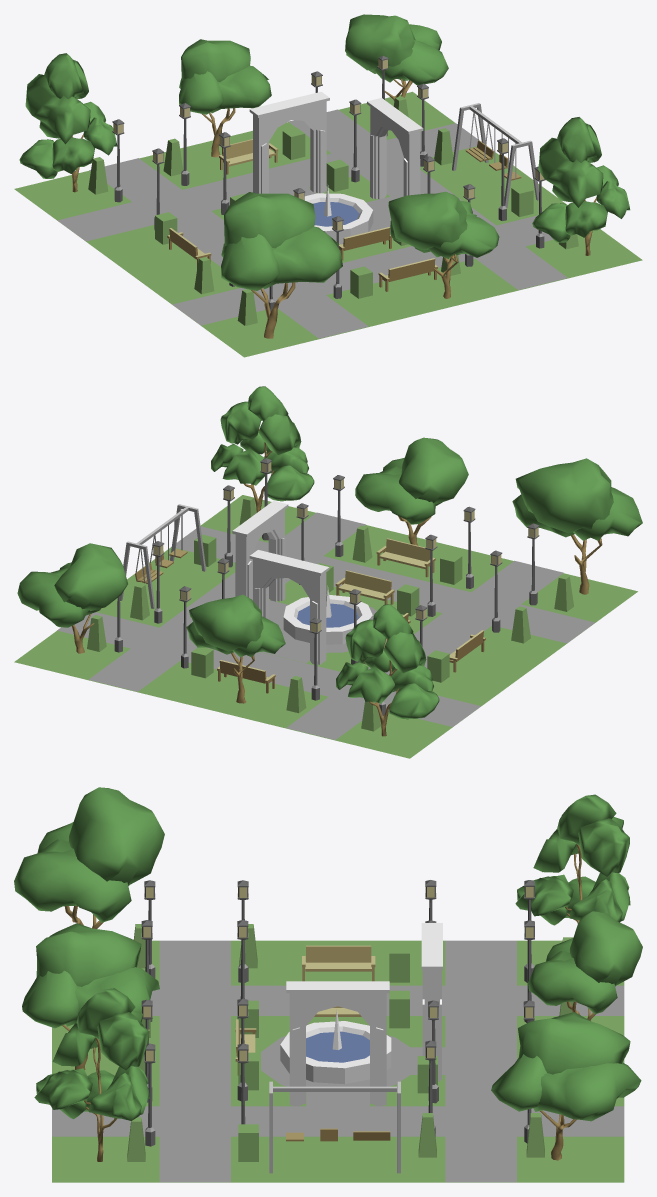
File: park-transformed.glb
The picture shows the model from 3 angles, top to bottom: view 1: azimuth 30°, elevation 25°; view 2: azimuth 150°, elevation 25°; view 3: azimuth 270°, elevation 25°; orthographic projection. The views are drawn at different scales.
Visible parts, largest first — view 1: park.007; view 2: park.007; view 3: park.007.
Part boxes in pixels (x1,y1,x2,y2): park.007: (14, 14, 642, 357); park.007: (14, 386, 642, 758); park.007: (14, 787, 642, 1182).
Bounding box in the file's own units: 16.87 × 6.04 × 17.59.
1 material, 1 textured.
